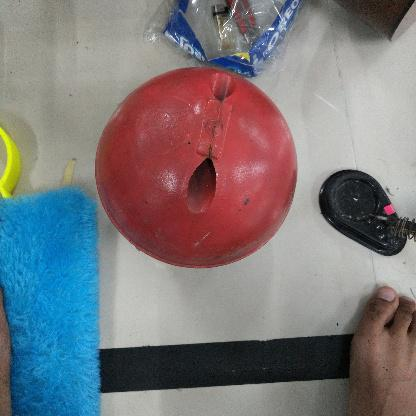red_buoy: (93, 63, 299, 272)
